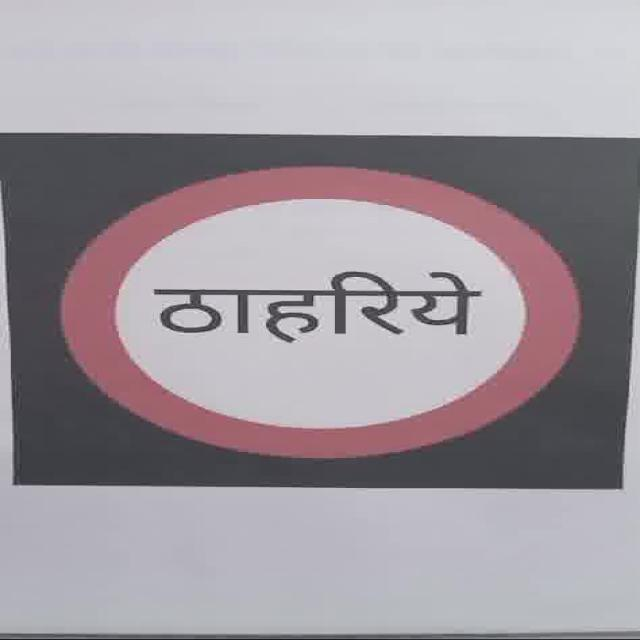hindistop: (55, 162, 586, 462), (150, 269, 483, 343)
